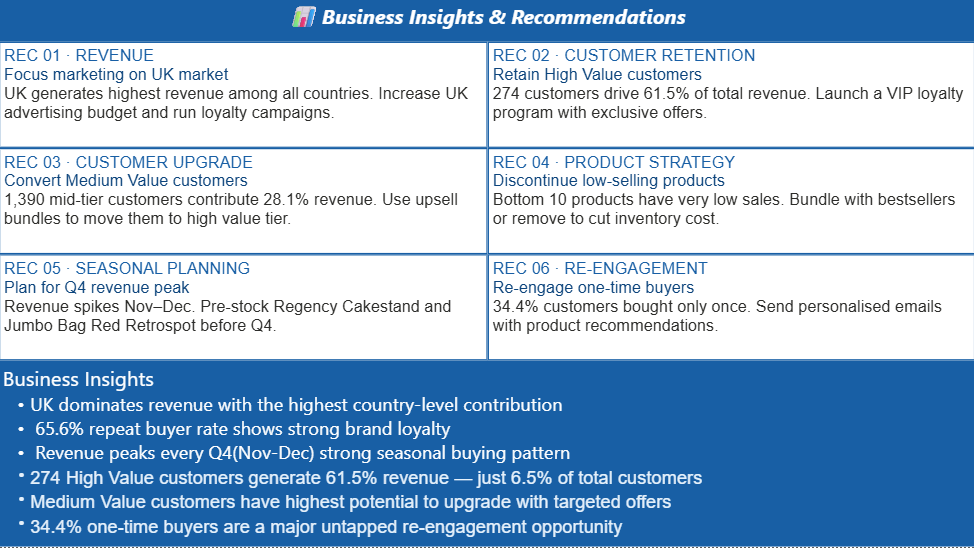

Layout of this report page (visuals, bound fields, positions):
{"tool":"powerbi","page":{"name":"Business Insights & Recommendations","canvas":[1280,720],"ordinal":3},"visuals":[{"type":"textbox","box":[0,0,1280.3,57.4],"z":0},{"type":"textbox","box":[0,57.4,641,139.3],"z":1000},{"type":"textbox","box":[0,196.7,641,139.3],"z":2000},{"type":"textbox","box":[641,196.7,639.3,139.3],"z":3000},{"type":"textbox","box":[641,57.4,639.3,139.3],"z":4000},{"type":"textbox","box":[641,336.1,639.3,139.3],"z":5000},{"type":"textbox","box":[0,336.1,641,139.3],"z":6000},{"type":"textbox","box":[0,518,641,150],"z":7000},{"type":"textbox","box":[0,475.4,1280.3,244.3],"z":8000}]}

Visuals, with their boxes in screenshot pixels (x1, y1, x2, y2), scaled from the page's 1280x720 canvas onto the 974x548 screenshot:
textbox: [0, 0, 973, 44]
textbox: [0, 44, 488, 150]
textbox: [0, 150, 488, 256]
textbox: [488, 150, 973, 256]
textbox: [488, 44, 973, 150]
textbox: [488, 256, 973, 362]
textbox: [0, 256, 488, 362]
textbox: [0, 394, 488, 508]
textbox: [0, 362, 973, 547]
